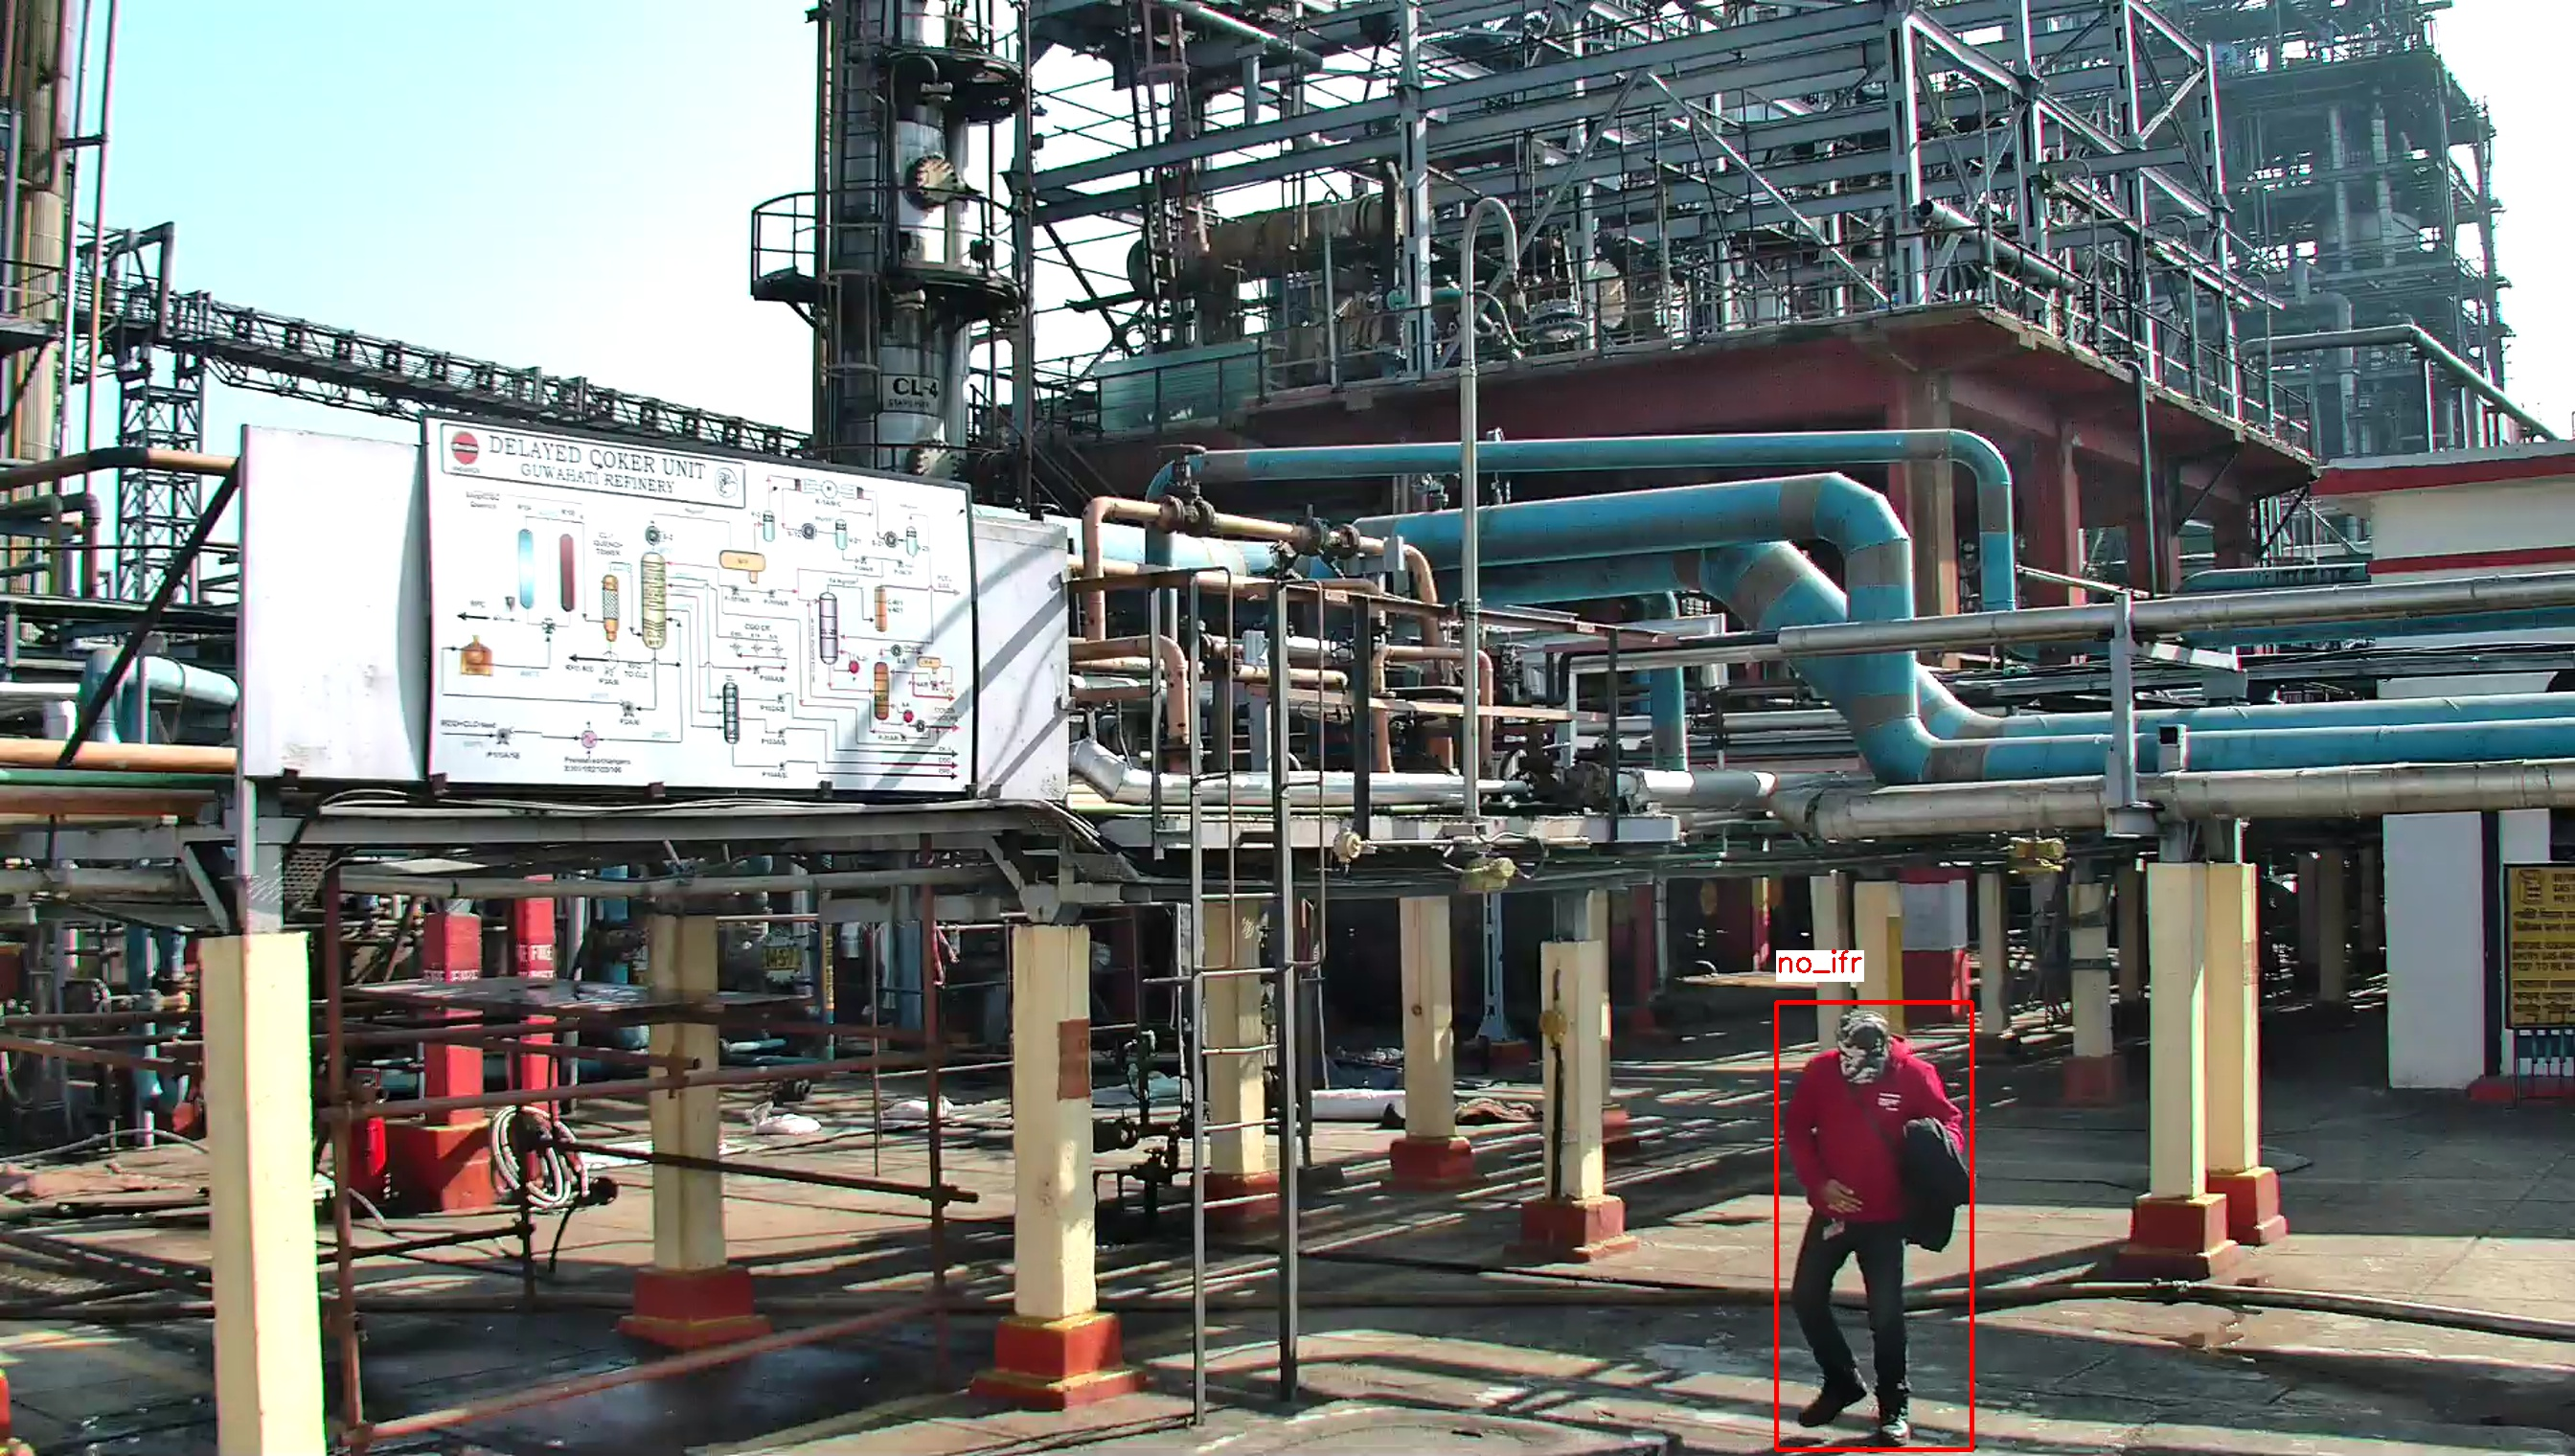Boots: (1797, 1373, 1869, 1428), (1873, 1406, 1915, 1445)
